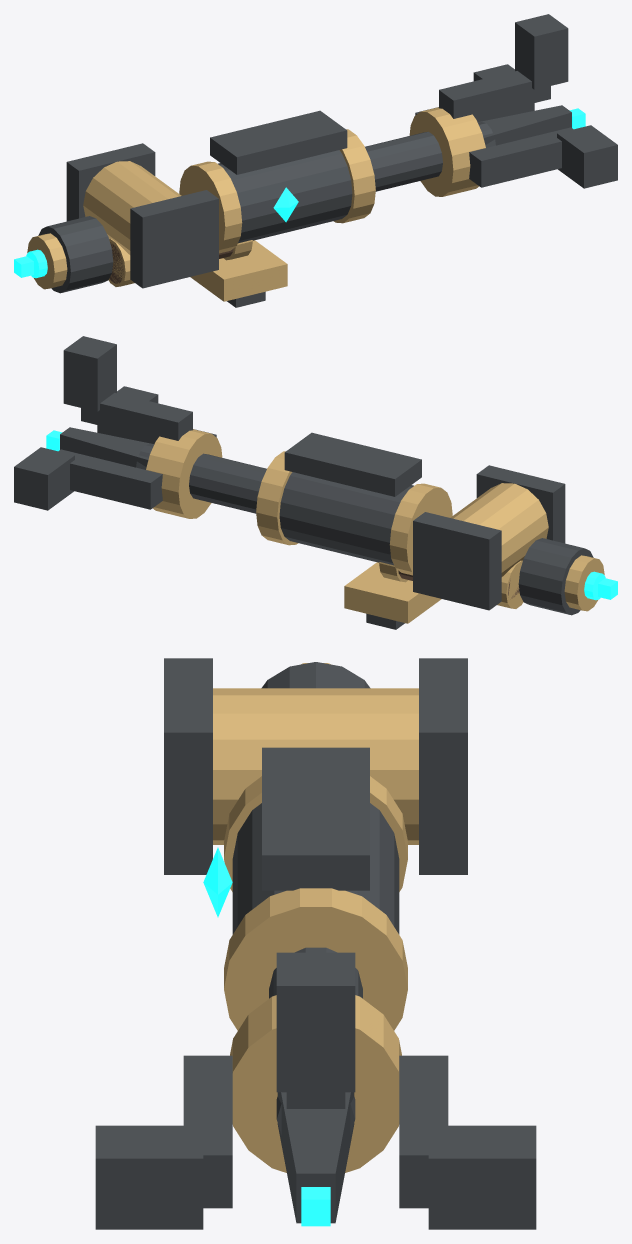
File: SM_MKG_GrappleHook_A01.fbx
3 renders of one model, top to bottom at view 1: azimuth 30°, elevation 25°; view 2: azimuth 150°, elevation 25°; view 3: azimuth 270°, elevation 25°, orthographic. The views are drawn at different scales.
Parts seen in each view (by area): view 1: LauncherBody_DarkIron_PressureTube, CableDrum_DarkIron_RightCap, LauncherBody_DarkIron_TopPlate, CableDrum_Brass_Winder, HookHub_Brass_TripleClawMount, HookClaw_DarkIron_RightArm, HookClaw_DarkIron_TopTip, CableSocket_DarkIron_RearHousing, HookClaw_DarkIron_TopArm, HookNeck_DarkIron_ForwardShaft, TriggerGuard_Brass_LoopBlock, HookClaw_DarkIron_RightTip (+10 smaller); view 2: LauncherBody_DarkIron_PressureTube, CableDrum_DarkIron_LeftCap, LauncherBody_DarkIron_TopPlate, CableDrum_Brass_Winder, HookHub_Brass_TripleClawMount, HookClaw_DarkIron_LeftArm, HookClaw_DarkIron_TopTip, CableSocket_DarkIron_RearHousing, HookClaw_DarkIron_TopArm, HookNeck_DarkIron_ForwardShaft, TriggerGuard_Brass_LoopBlock, HookClaw_DarkIron_LeftTip (+8 smaller); view 3: CableDrum_Brass_Winder, LauncherBody_DarkIron_TopPlate, LauncherBody_Brass_FrontCollar, HookHub_Brass_TripleClawMount, HookClaw_DarkIron_LeftTip, HookClaw_DarkIron_RightTip, HookClaw_DarkIron_TopTip, CableDrum_DarkIron_LeftCap, CableDrum_DarkIron_RightCap, HookClaw_DarkIron_CenterForward, HookClaw_DarkIron_LeftArm, HookClaw_DarkIron_RightArm (+6 smaller).
Part boxes in pixels (<box>): LauncherBody_DarkIron_PressureTube: <box>218,150,352,243</box>; CableDrum_DarkIron_RightCap: <box>130,190,218,288</box>; LauncherBody_DarkIron_TopPlate: <box>210,110,347,174</box>; CableDrum_Brass_Winder: <box>83,161,181,254</box>; HookHub_Brass_TripleClawMount: <box>409,107,485,196</box>; HookClaw_DarkIron_RightArm: <box>469,127,573,187</box>; HookClaw_DarkIron_TopTip: <box>515,14,568,89</box>; CableSocket_DarkIron_RearHousing: <box>38,216,113,293</box>; HookClaw_DarkIron_TopArm: <box>439,71,550,118</box>; HookNeck_DarkIron_ForwardShaft: <box>365,131,442,191</box>; TriggerGuard_Brass_LoopBlock: <box>190,240,287,301</box>; HookClaw_DarkIron_RightTip: <box>557,125,617,188</box>; LauncherBody_DarkIron_PressureTube: <box>279,472,413,565</box>; CableDrum_DarkIron_LeftCap: <box>413,512,501,610</box>; LauncherBody_DarkIron_TopPlate: <box>284,432,421,496</box>; CableDrum_Brass_Winder: <box>450,483,548,576</box>; HookHub_Brass_TripleClawMount: <box>146,429,222,518</box>; HookClaw_DarkIron_LeftArm: <box>58,449,162,509</box>; HookClaw_DarkIron_TopTip: <box>63,336,116,411</box>; CableSocket_DarkIron_RearHousing: <box>518,538,593,615</box>; HookClaw_DarkIron_TopArm: <box>81,393,192,440</box>; HookNeck_DarkIron_ForwardShaft: <box>189,453,266,513</box>; TriggerGuard_Brass_LoopBlock: <box>344,562,441,623</box>; HookClaw_DarkIron_LeftTip: <box>14,447,74,510</box>; CableDrum_Brass_Winder: <box>213,688,418,844</box>; LauncherBody_DarkIron_TopPlate: <box>262,747,369,890</box>; LauncherBody_Brass_FrontCollar: <box>224,888,407,1030</box>; HookHub_Brass_TripleClawMount: <box>230,995,401,1172</box>; HookClaw_DarkIron_LeftTip: <box>428,1125,536,1229</box>; HookClaw_DarkIron_RightTip: <box>95,1125,203,1229</box>; HookClaw_DarkIron_TopTip: <box>276,952,355,1092</box>; CableDrum_DarkIron_LeftCap: <box>419,658,467,874</box>; CableDrum_DarkIron_RightCap: <box>164,658,212,874</box>; HookClaw_DarkIron_CenterForward: <box>277,1092,354,1223</box>; HookClaw_DarkIron_LeftArm: <box>399,1055,448,1208</box>; HookClaw_DarkIron_RightArm: <box>183,1055,232,1208</box>.
Size of what is drawn, in the model's own units: 4500 by 13300 by 4550.
